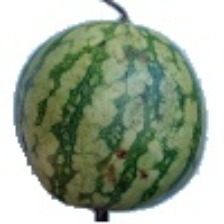watermelon: (36, 2, 179, 181)
